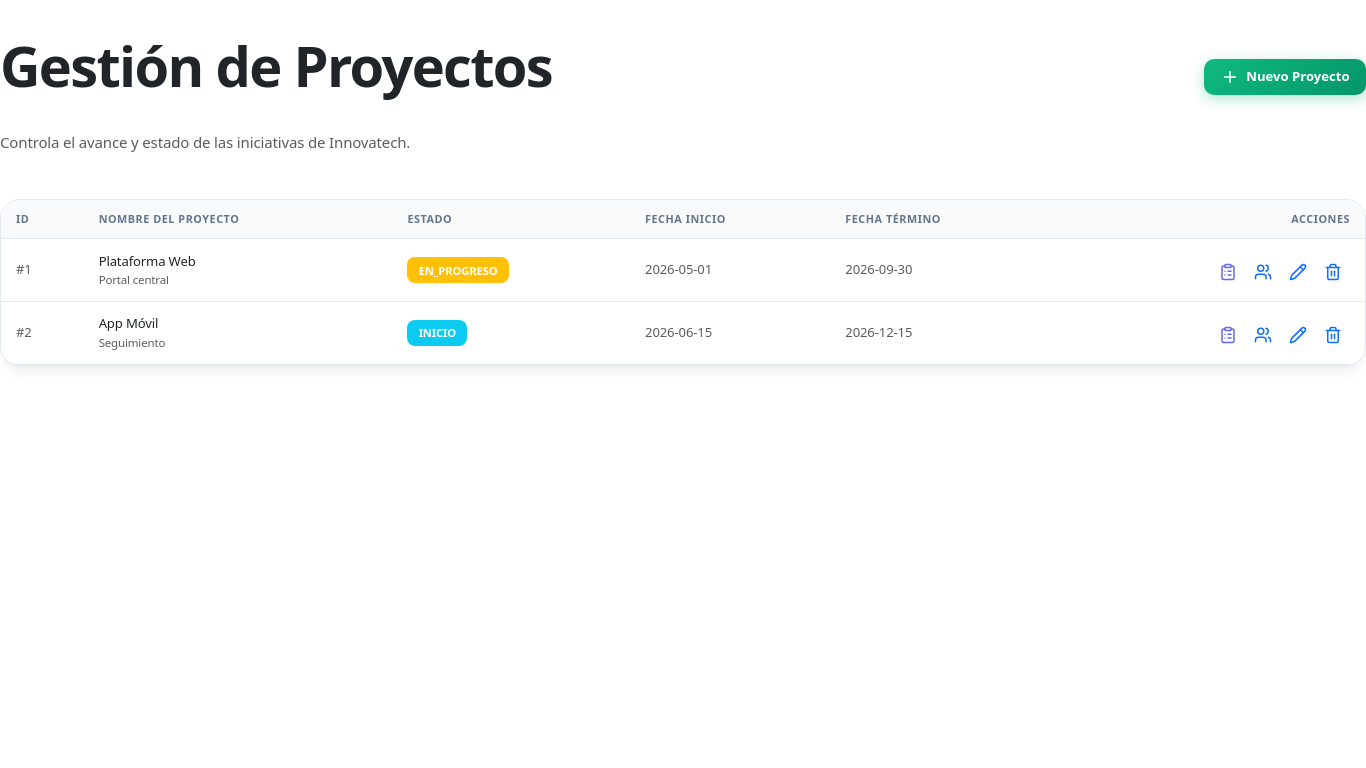
Test: ProjectsManagement › permite agregar y quitar un colaborador de la lista del equipo
Expected: the text "Plataforma Web" is shown, x1=99 y1=252 x2=196 y2=270
Click the button titled "Gestionar Equipo" in the row of "Plataforma Web".
click(1262, 270)  # box x1=1245 y1=251 x2=1280 y2=290
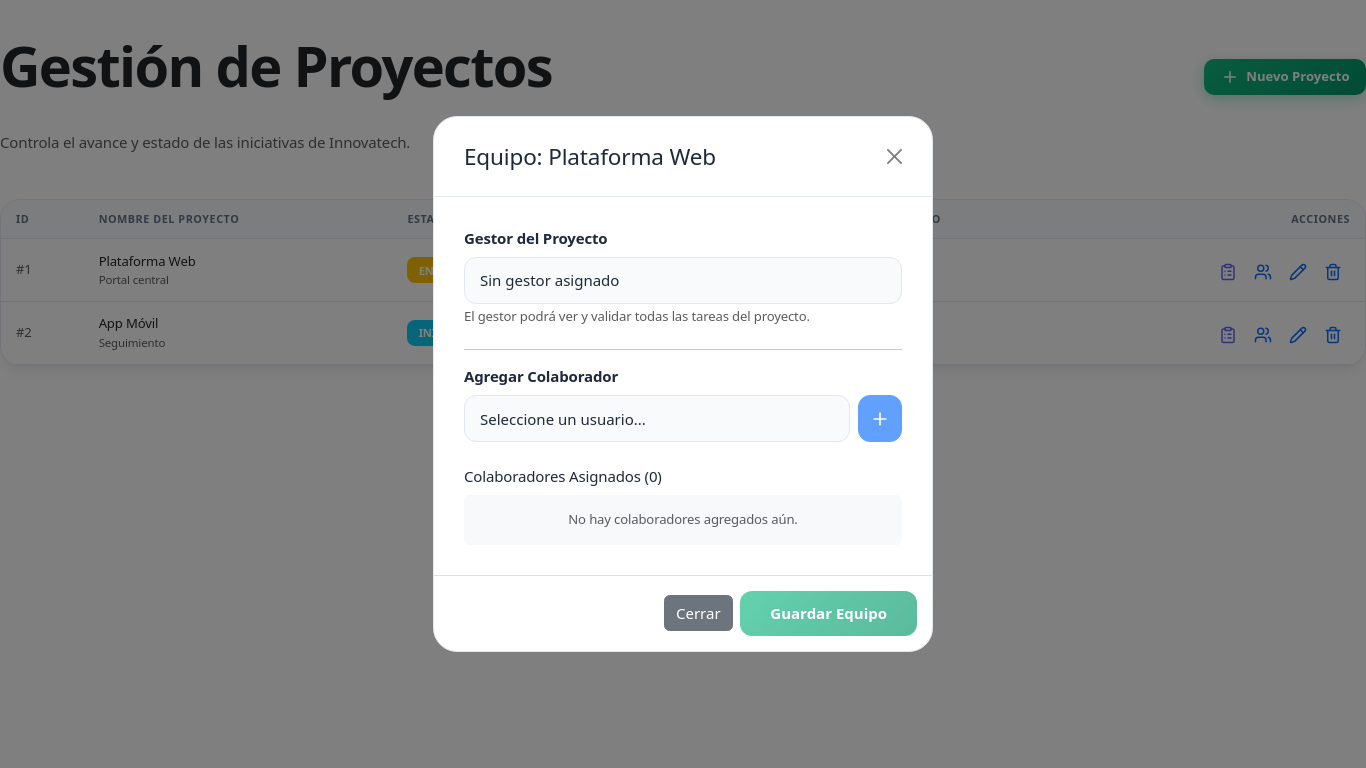
Select "Juan Pérez" in the dropdown below "Agregar Colaborador" at (657, 419), box x1=464 y1=395 x2=850 y2=442
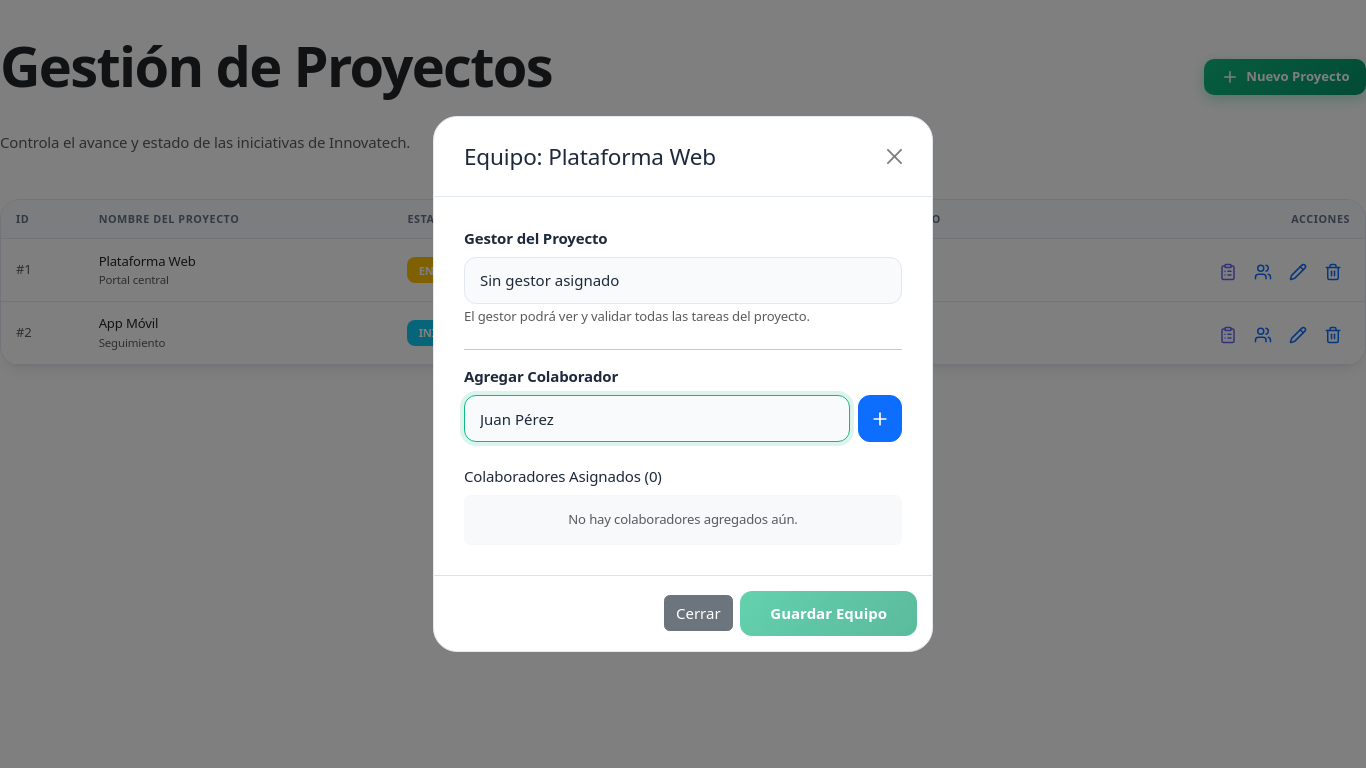
Note: El botón "+" de agregar es el hermano inmediato del selector de colaboradores
Click the 2nd button.
click(880, 419)  # box x1=858 y1=395 x2=902 y2=442
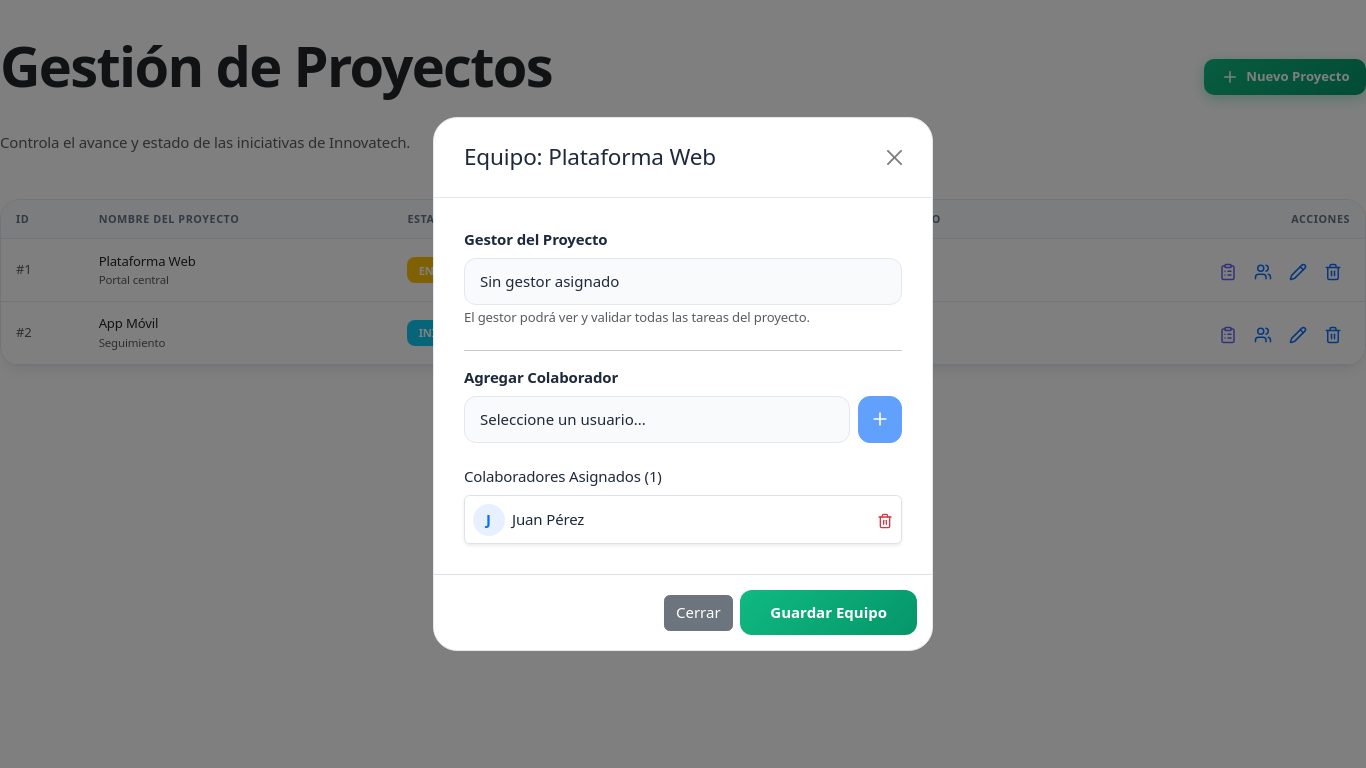
Result: the text "Colaboradores Asignados (1)" is shown at x1=464 y1=465 x2=662 y2=488
Note: Quitarlo con el botón de remover (título "Remover")
Click the button titled "Remover".
click(884, 520)  # box x1=876 y1=508 x2=894 y2=532
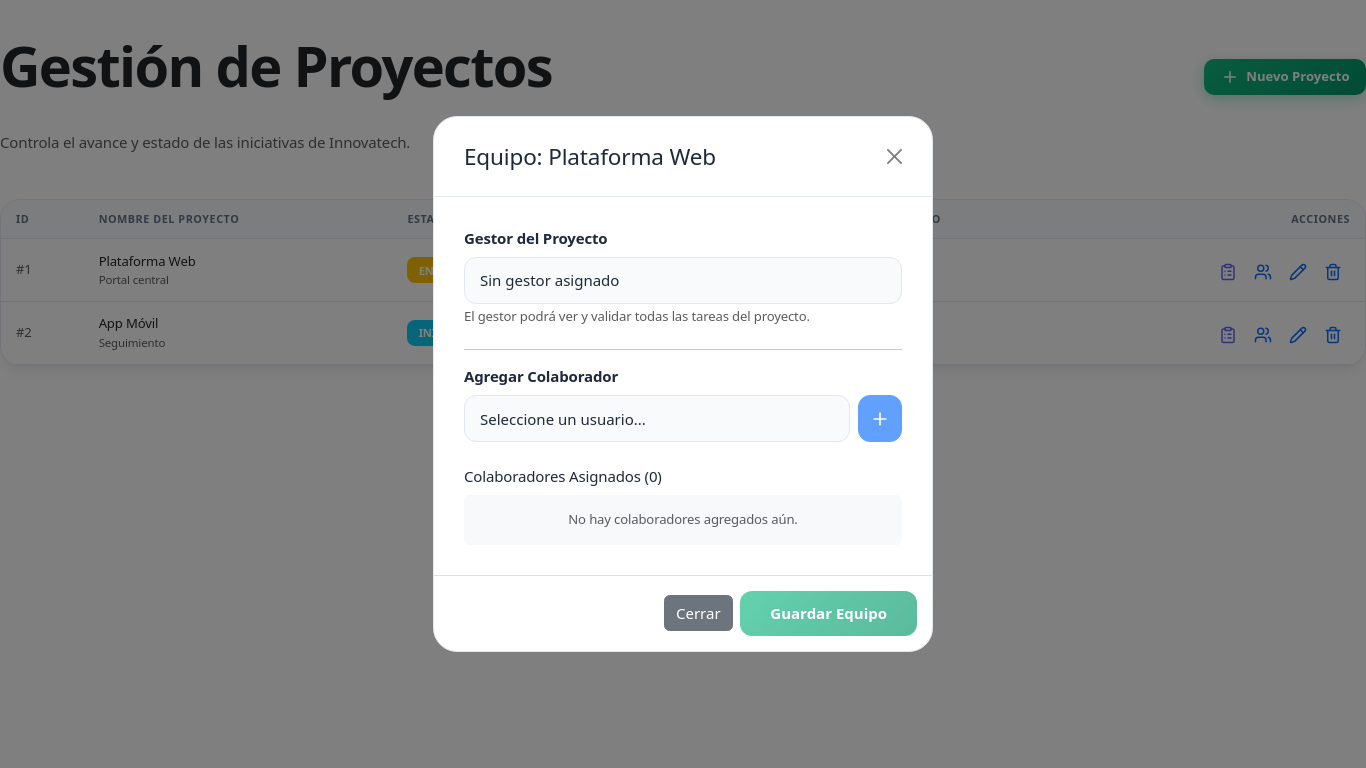
Result: the text "Colaboradores Asignados (0)" is shown at x1=464 y1=465 x2=662 y2=487
